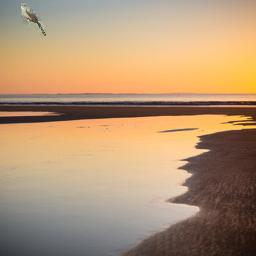Cuckoo: (21, 3, 46, 36)
